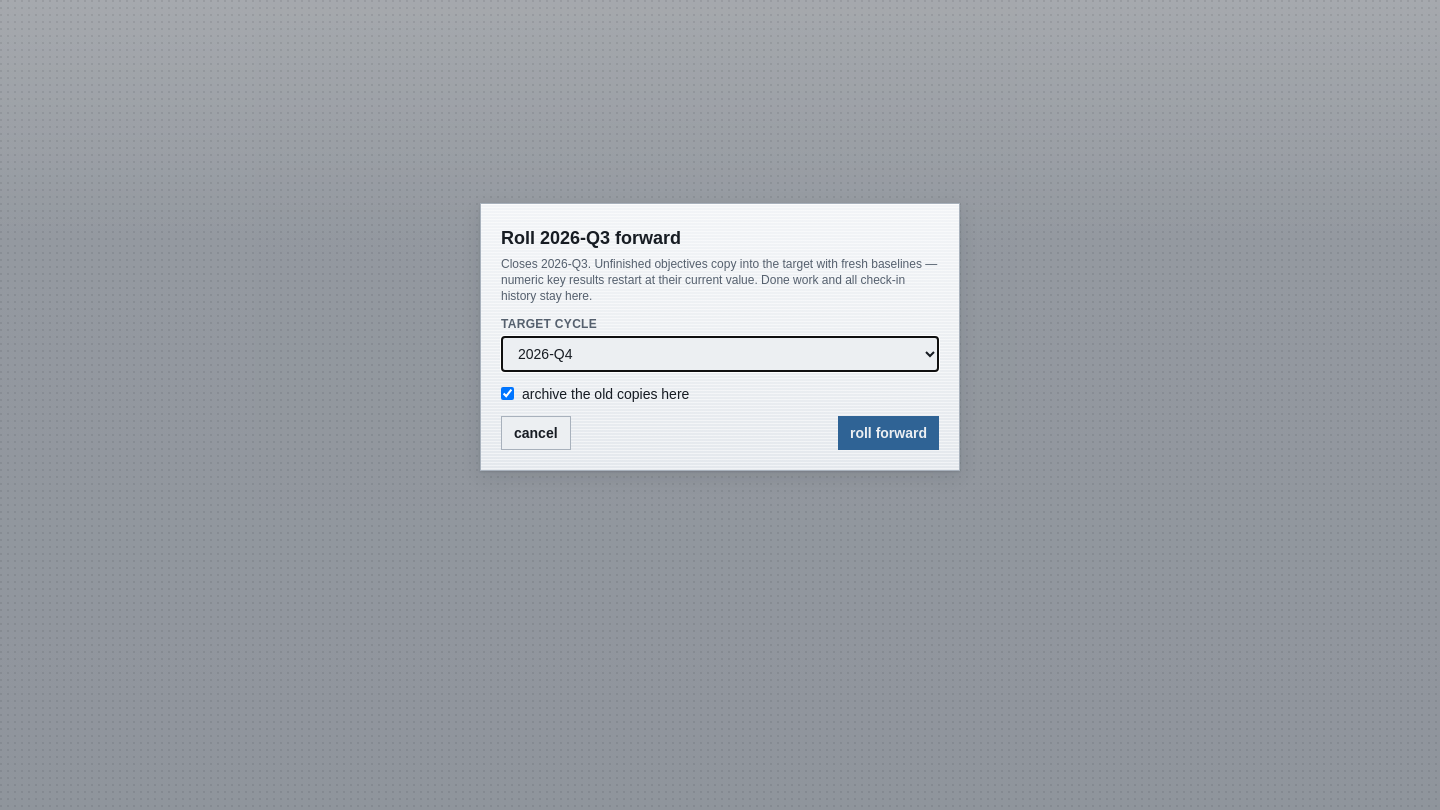
Test: RolloverDialog › offers only other open cycles, rolls, and shows the re-link warning
Click the button "roll forward".
click(888, 432)  # box 838,416 -> 939,450
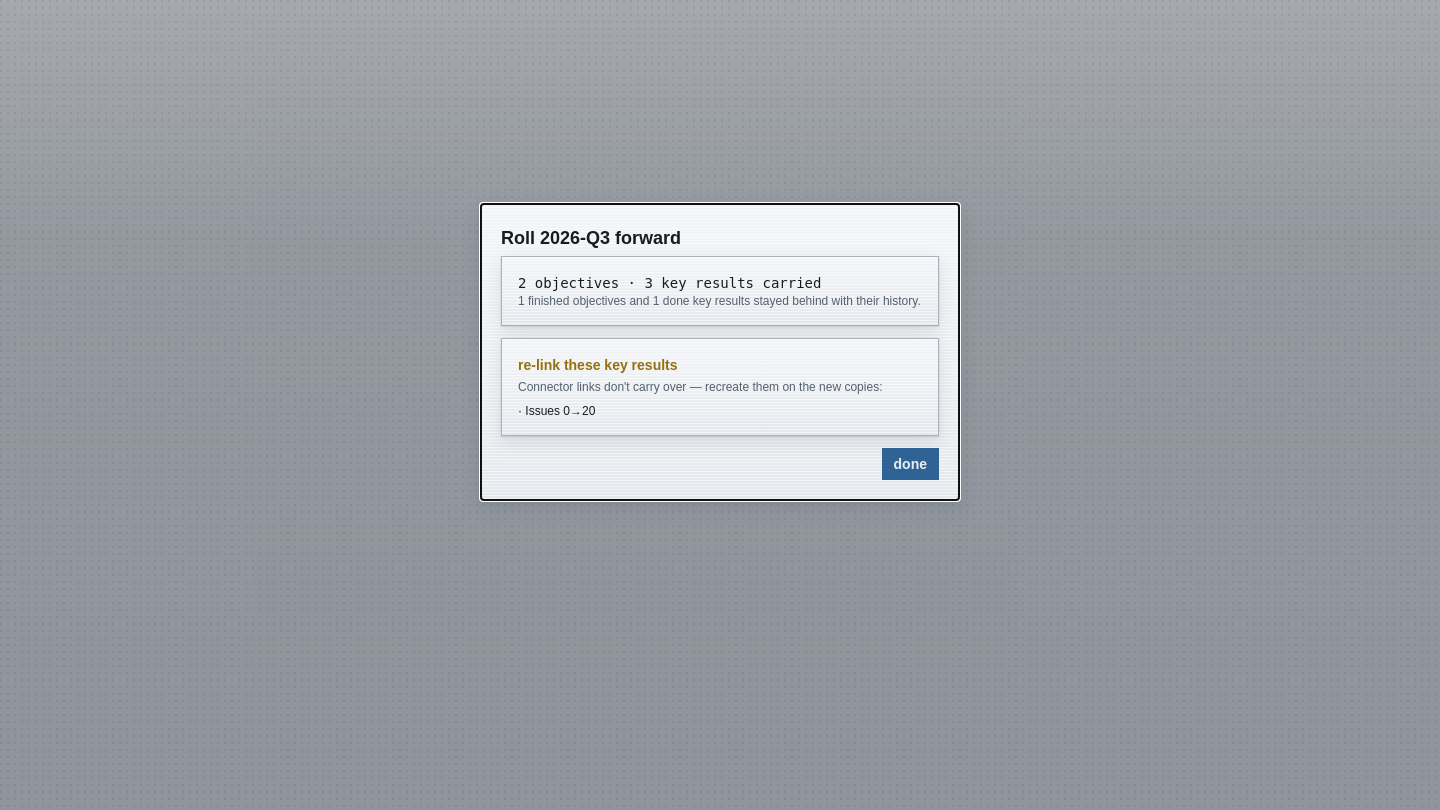
Result: the text "2 objectives · 3 key results carried" is shown at 518,274 -> 822,290
Result: the text "re-link these key results" is shown at 518,356 -> 678,372
Result: the list item "· Issues 0→20" is shown at 518,404 -> 595,418
